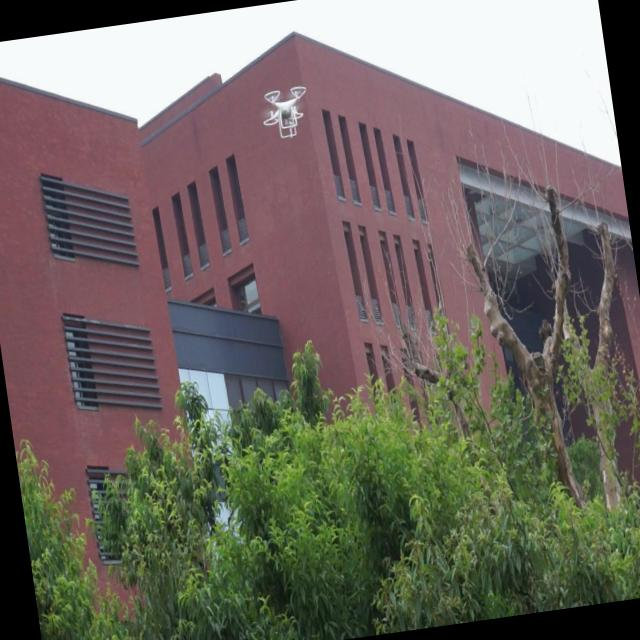drone: (257, 79, 313, 144)
